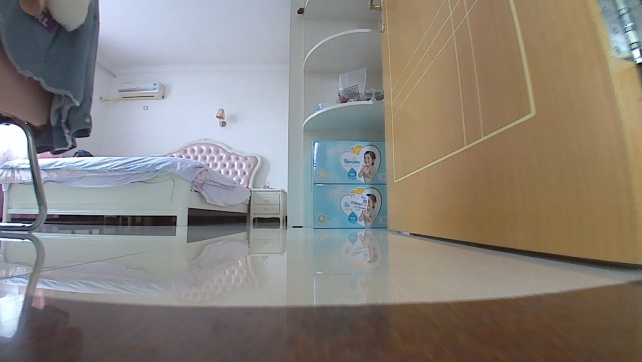bed: (0, 135, 264, 230)
cabinet: (246, 184, 289, 228)
door_anno: (365, 0, 641, 269)
metal_chair_foot: (0, 220, 45, 239)
